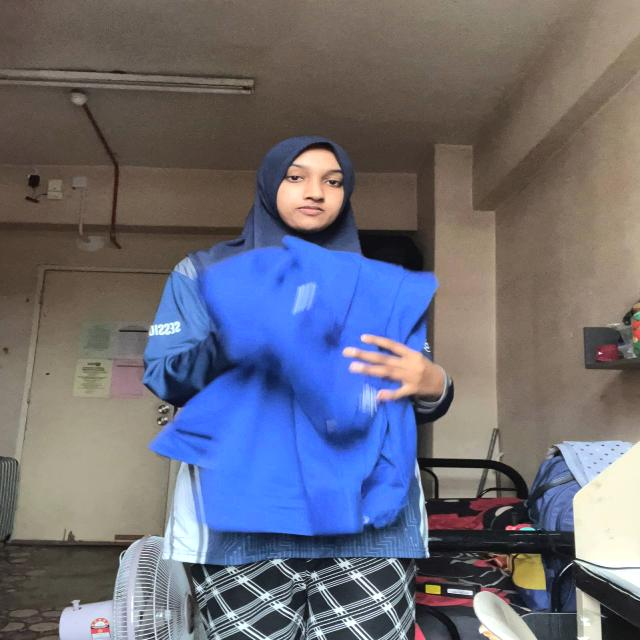person_without_labcoat: (145, 136, 453, 640)
